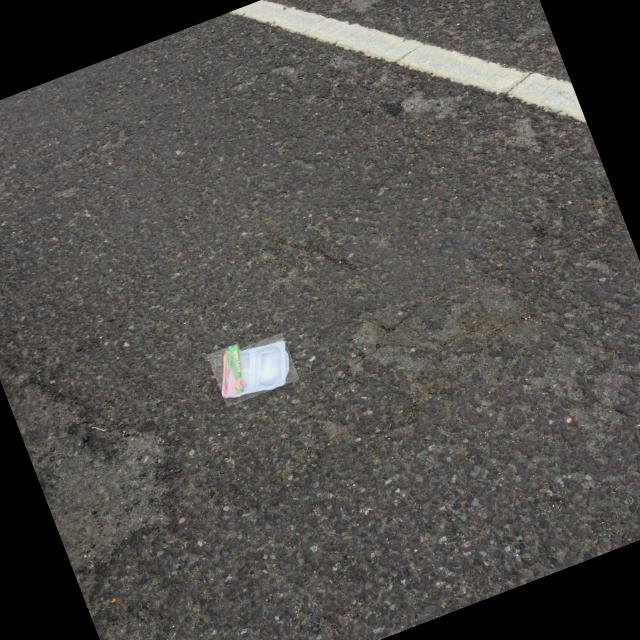Food container: (223, 341, 290, 398)
Plastic film: (223, 345, 244, 397)
